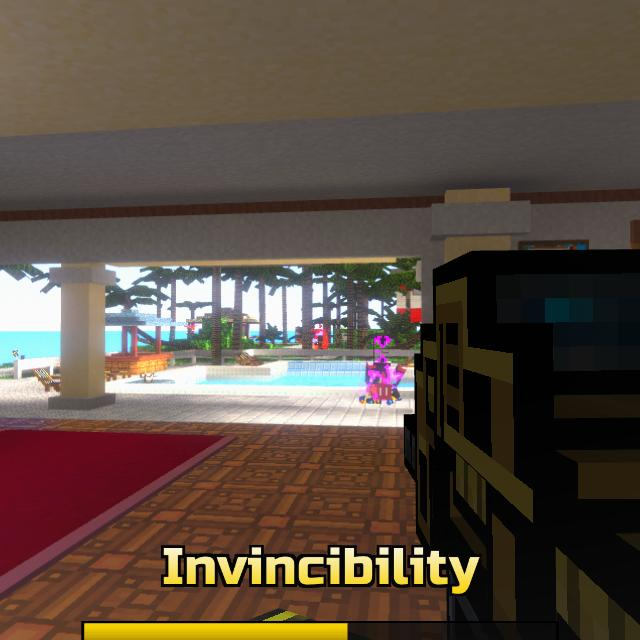Enemy: (314, 333, 325, 349)
